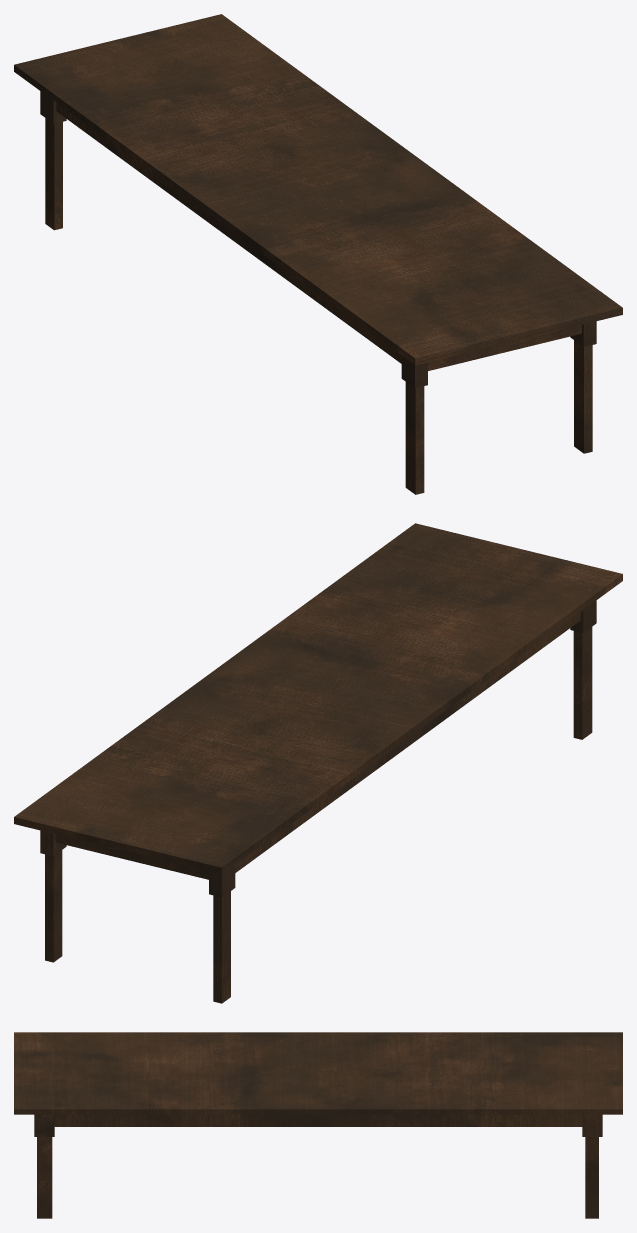
File: longtable.fbx
3 views of the same model, one above another, from view 1: azimuth 30°, elevation 25°; view 2: azimuth 150°, elevation 25°; view 3: azimuth 270°, elevation 25° (orthographic). The views are drawn at different scales.
Parts seen in each view (by area): view 1: table_long_UV:table_long; view 2: table_long_UV:table_long; view 3: table_long_UV:table_long.
Part boxes in pixels (x1=…): table_long_UV:table_long: x1=14, y1=14, x2=622, y2=494; table_long_UV:table_long: x1=14, y1=523, x2=622, y2=1003; table_long_UV:table_long: x1=14, y1=1032, x2=622, y2=1218.
Bounding box in the file's own units: 16 × 11.14 × 53.55.
Materials: 1 (1 with a texture image).
